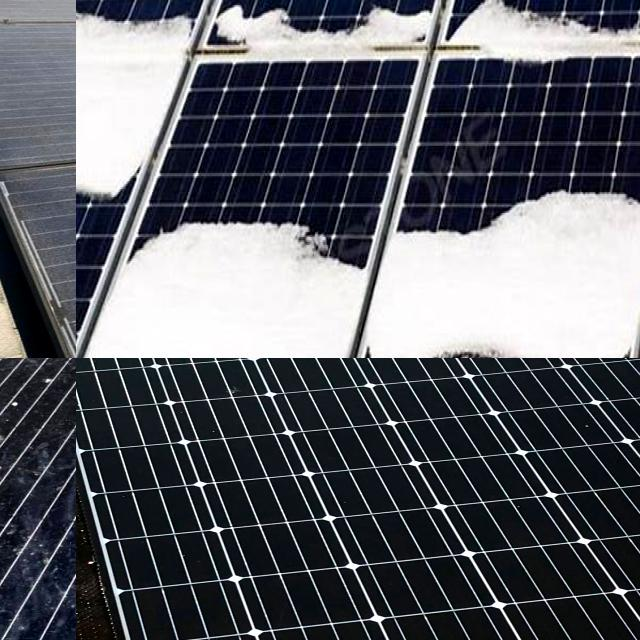crack: (76, 358, 640, 640)
dust: (10, 162, 76, 358), (0, 21, 76, 152), (0, 0, 76, 63), (0, 0, 76, 44)
panel: (383, 180, 640, 252), (441, 0, 640, 70), (212, 0, 423, 66), (440, 298, 624, 358), (268, 202, 368, 312), (122, 64, 201, 172), (131, 193, 264, 256), (88, 265, 164, 352), (76, 150, 136, 222), (106, 0, 191, 49), (341, 310, 405, 358), (76, 0, 108, 39)
